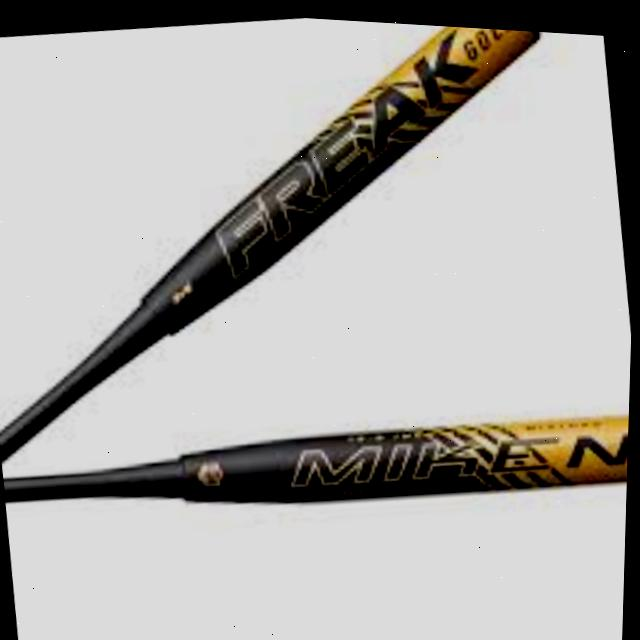baseball bat: (2, 20, 548, 466), (1, 370, 631, 549)
